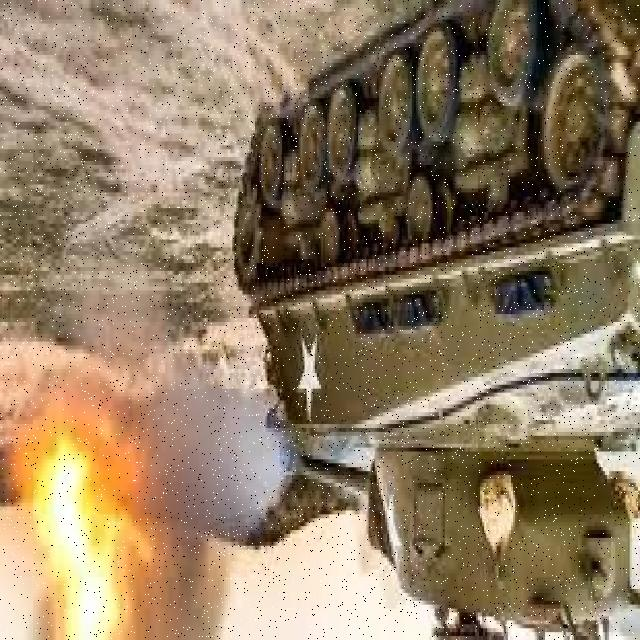MIL_MBT: (208, 18, 575, 626)
